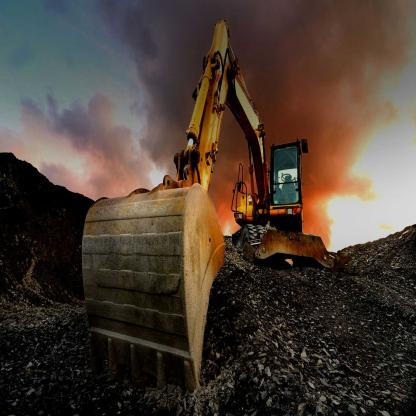excavator: (75, 19, 340, 386)
